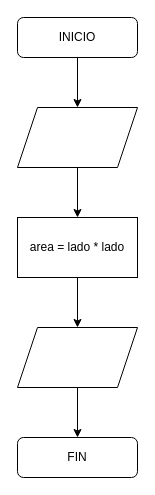
The diagram is 155 pixels wide and 495 high, and some of its shapes have lost their labels. The centre of each missing label's shape, as x and y in pixels:
"Escribir area" goes at pixel 77 357.
"Leer lado" goes at pixel 77 137.
